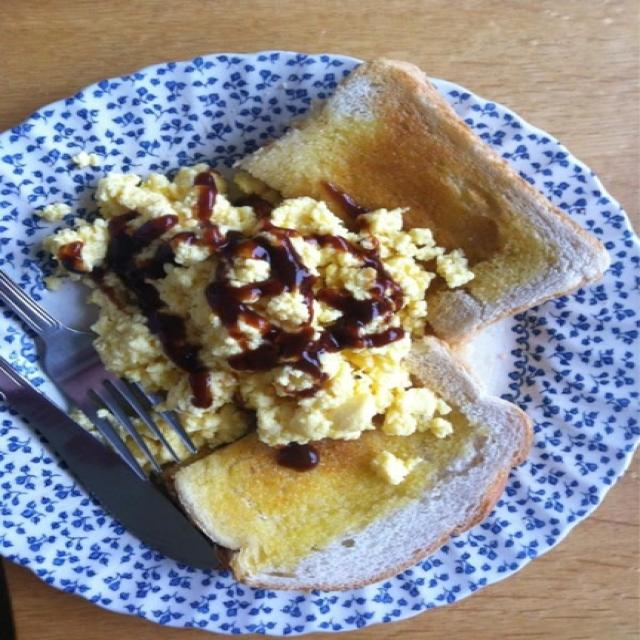鸡蛋料理: (19, 45, 618, 612)
